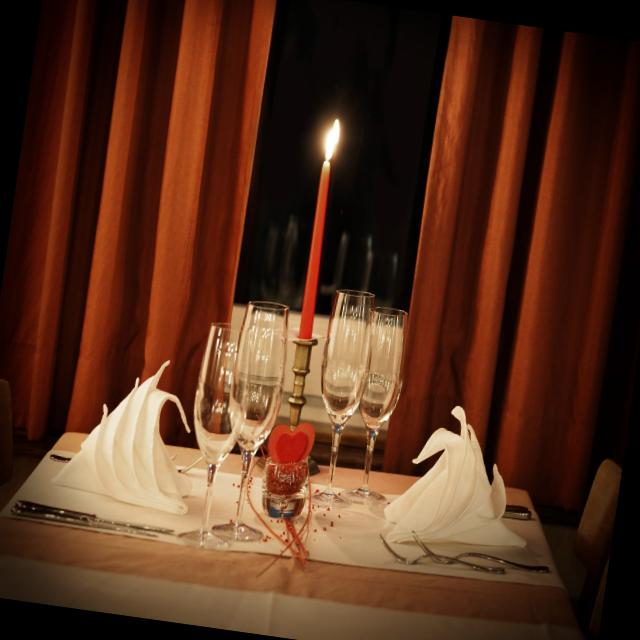Fire_Save: (295, 116, 344, 340)
